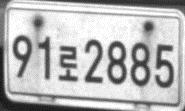1: (36, 34, 52, 81)
2: (84, 39, 103, 84)
5: (153, 43, 175, 88)
8: (107, 40, 128, 85), (129, 42, 150, 85)
9: (12, 35, 33, 78)
로: (58, 44, 78, 82)
